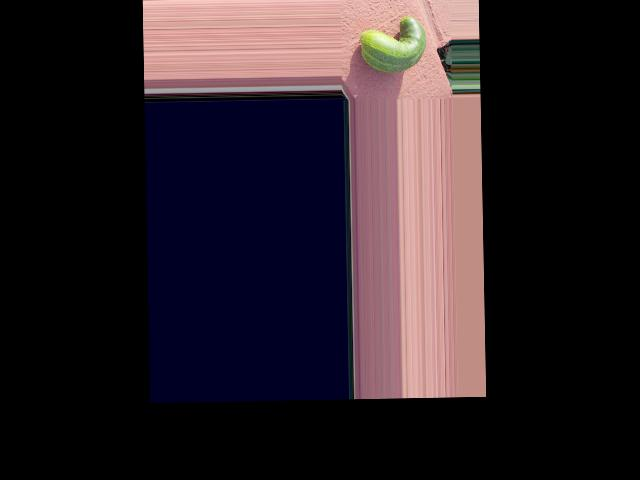cucumber: (359, 15, 426, 72)
